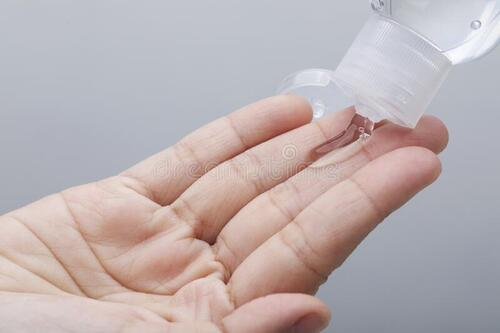sanitizer: (330, 2, 496, 127)
